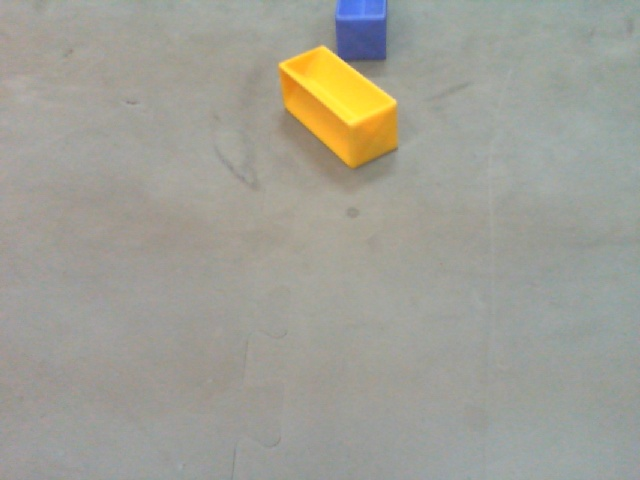BlueSample: (334, 1, 389, 61)
YellowSample: (276, 43, 399, 171)
